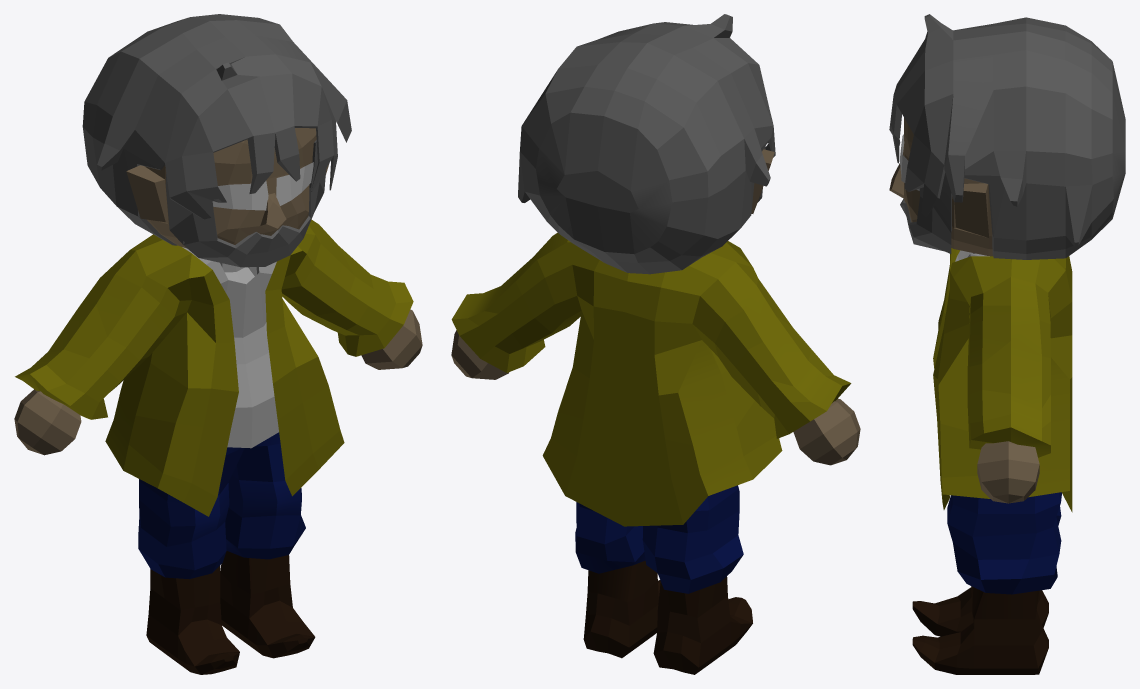
Rendered from Fisherman.fbx.
3 views of the same model, side by side, from view 1: azimuth 30°, elevation 25°; view 2: azimuth 150°, elevation 25°; view 3: azimuth 270°, elevation 25° (orthographic).
Parts seen in each view (by area): view 1: Old_man:Jacket, Old_man:Grandpa_hair, Old_man:Pants, Old_man:Shoes, Old_man:Face, Old_man:Under_Shirt, Old_man:Beard, Old_man:Hands, Old_man:eyes; view 2: Old_man:Jacket, Old_man:Grandpa_hair, Old_man:Shoes, Old_man:Pants, Old_man:Hands; view 3: Old_man:Grandpa_hair, Old_man:Jacket, Old_man:Shoes, Old_man:Pants, Old_man:Face, Old_man:Hands, Old_man:Beard.
Boxes of the visible parts, box(x1,y1,x2,y2) form: Old_man:Jacket: box(15, 219, 413, 516); Old_man:Grandpa_hair: box(82, 14, 351, 245); Old_man:Pants: box(138, 432, 305, 579); Old_man:Shoes: box(146, 551, 315, 674); Old_man:Face: box(126, 128, 329, 248); Old_man:Under_Shirt: box(182, 247, 278, 448); Old_man:Beard: box(165, 140, 326, 267); Old_man:Hands: box(14, 309, 422, 455); Old_man:eyes: box(212, 162, 313, 210); Old_man:Jacket: box(451, 232, 851, 526); Old_man:Grandpa_hair: box(518, 14, 775, 274); Old_man:Shoes: box(583, 560, 752, 674); Old_man:Pants: box(575, 485, 743, 593); Old_man:Hands: box(451, 330, 860, 465); Old_man:Grandpa_hair: box(889, 14, 1125, 259); Old_man:Jacket: box(933, 248, 1072, 512); Old_man:Shoes: box(912, 586, 1048, 674); Old_man:Pants: box(947, 492, 1061, 594); Old_man:Face: box(889, 118, 992, 256); Old_man:Hands: box(977, 441, 1039, 503); Old_man:Beard: box(900, 173, 952, 253).
Size of the model in its own units: 3.64 by 5.32 by 1.84.
